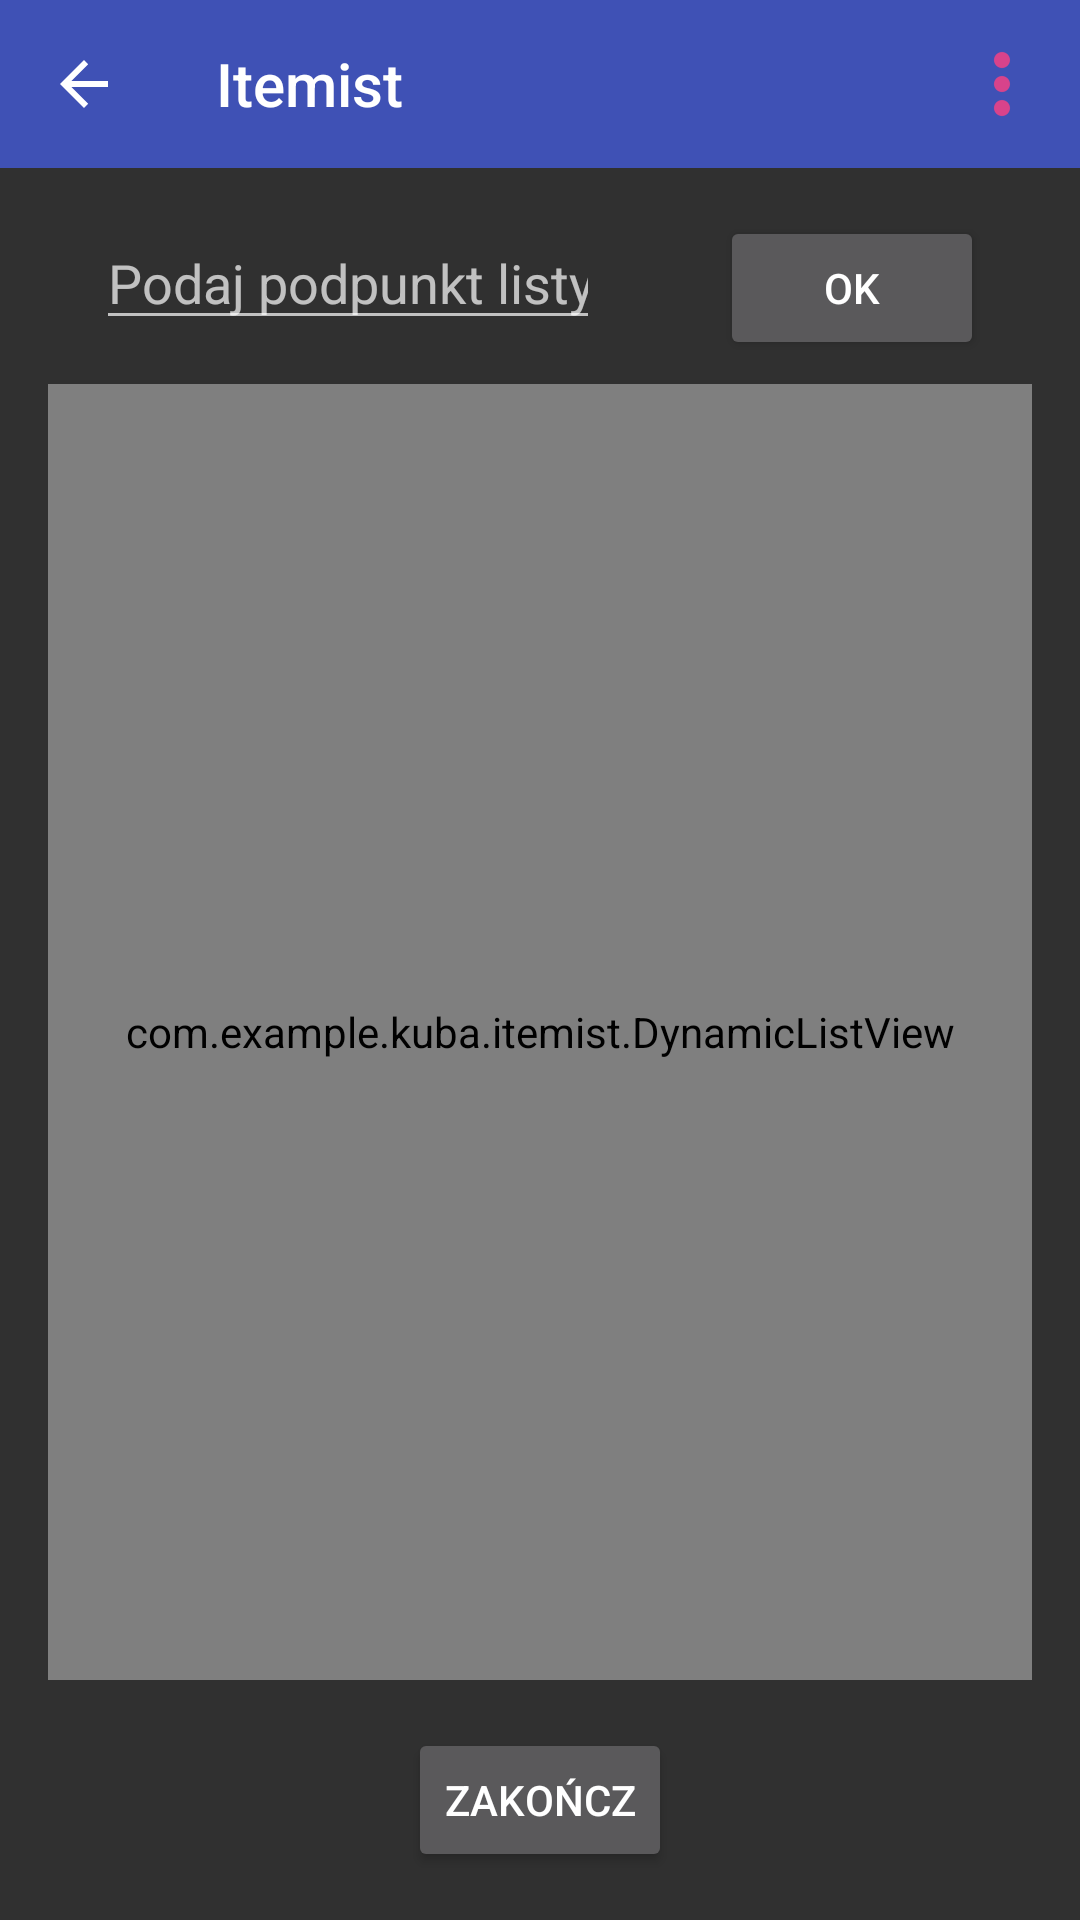

Icons on this 1080 × 1920 Android screen, each with the point to tap as (x=x, y=y):
Przyciski wiecej: (x=1002, y=84)
